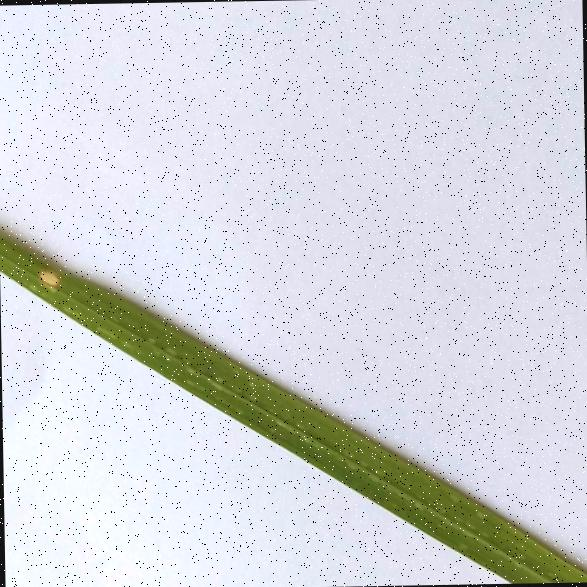Leaf_smut: (30, 260, 59, 296)
